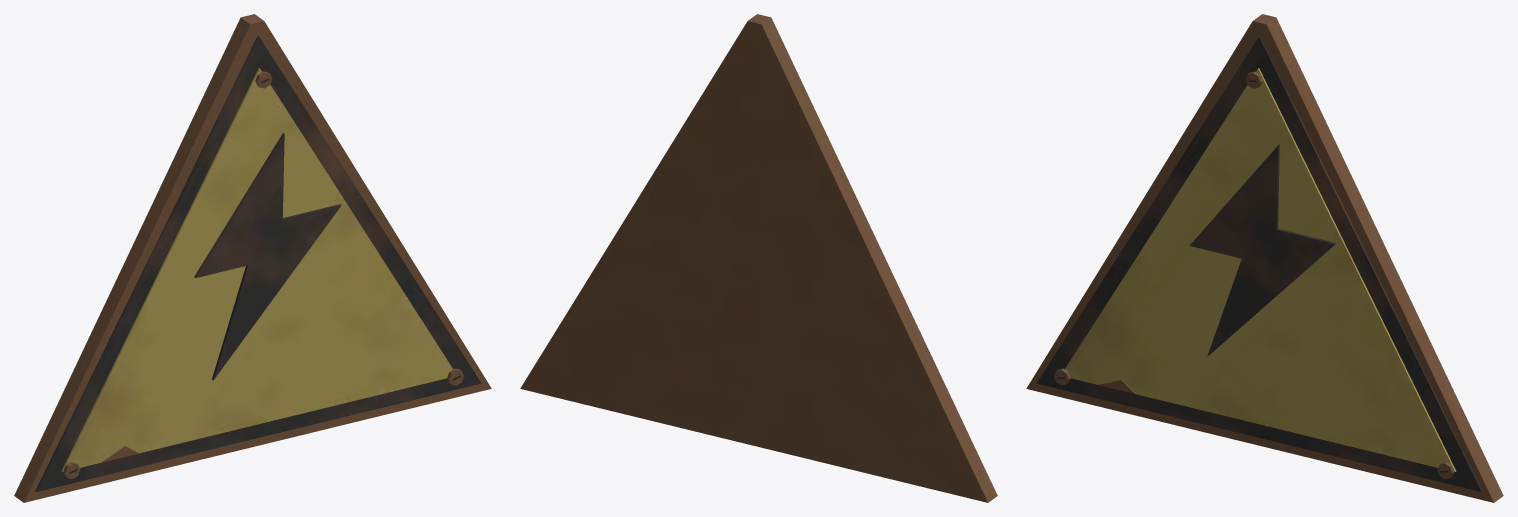
Rendered from O30_warning_signs_v1.glb.
3 views of the same model, side by side, from view 1: azimuth 30°, elevation 25°; view 2: azimuth 150°, elevation 25°; view 3: azimuth 330°, elevation 25° (orthographic).
Visible parts, largest first — view 1: Bent triangular steel blank; view 2: Bent triangular steel blank; view 3: Bent triangular steel blank.
Part boxes in pixels (x1,y1,x2,y2): Bent triangular steel blank: [14, 14, 491, 502]; Bent triangular steel blank: [520, 14, 997, 502]; Bent triangular steel blank: [1026, 14, 1503, 502].
Bounding box in the file's own units: 0.5 × 0.432 × 0.032.
Materials: 3 (3 with a texture image).
